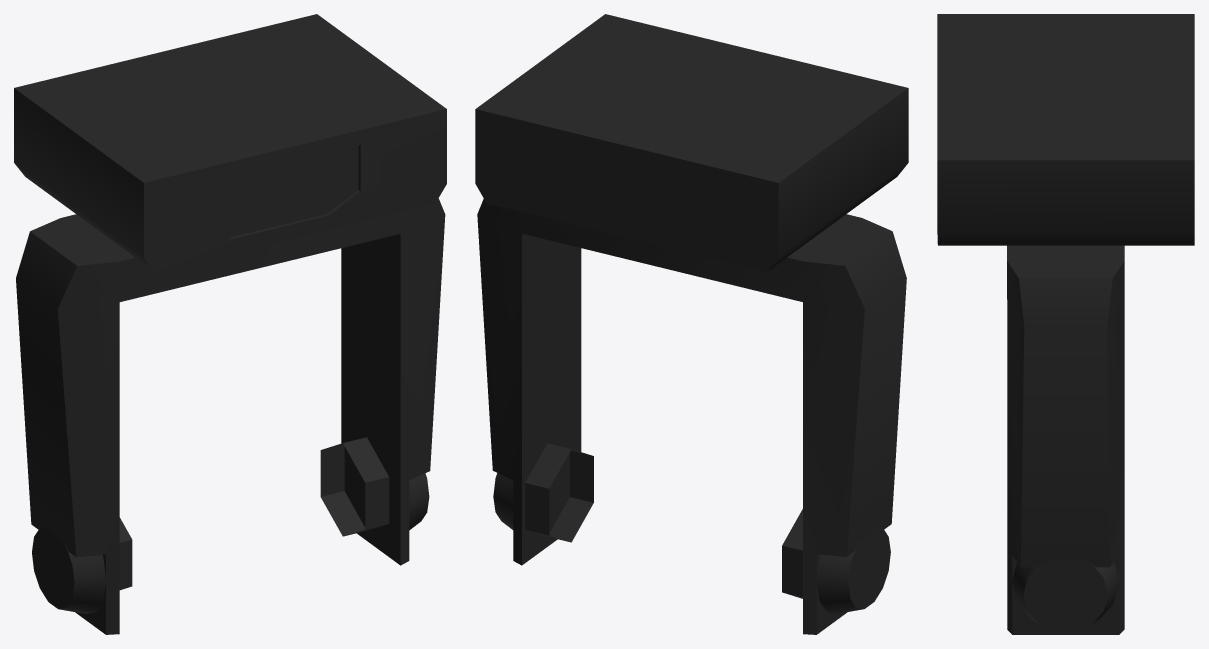
The model's file is Base_Camera01.fbx.
3 renders of one model, left to right at view 1: azimuth 30°, elevation 25°; view 2: azimuth 150°, elevation 25°; view 3: azimuth 270°, elevation 25°, orthographic.
Parts seen in each view (by area): view 1: Base_Camera01; view 2: Base_Camera01; view 3: Base_Camera01.
Boxes of the visible parts, bbox=[...] form: Base_Camera01: bbox=[14, 14, 446, 634]; Base_Camera01: bbox=[475, 14, 908, 634]; Base_Camera01: bbox=[937, 14, 1194, 634].
Size of the model in its own units: 0.347 by 0.4104 by 0.2014.
